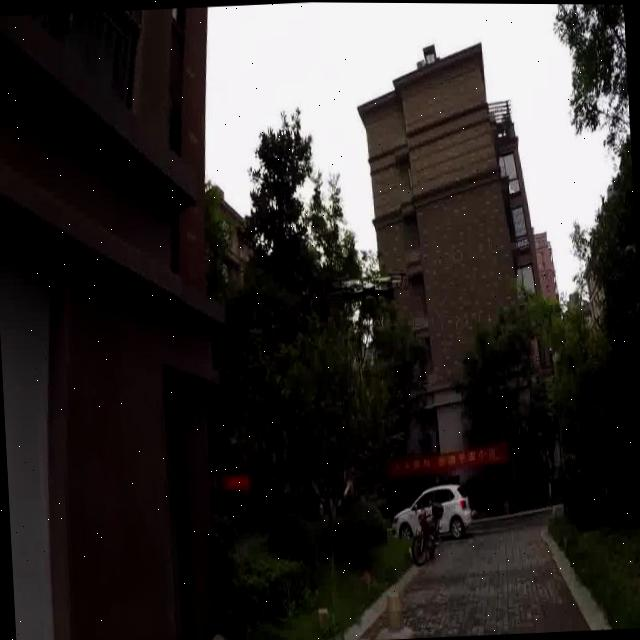drone: (328, 256, 414, 344)
